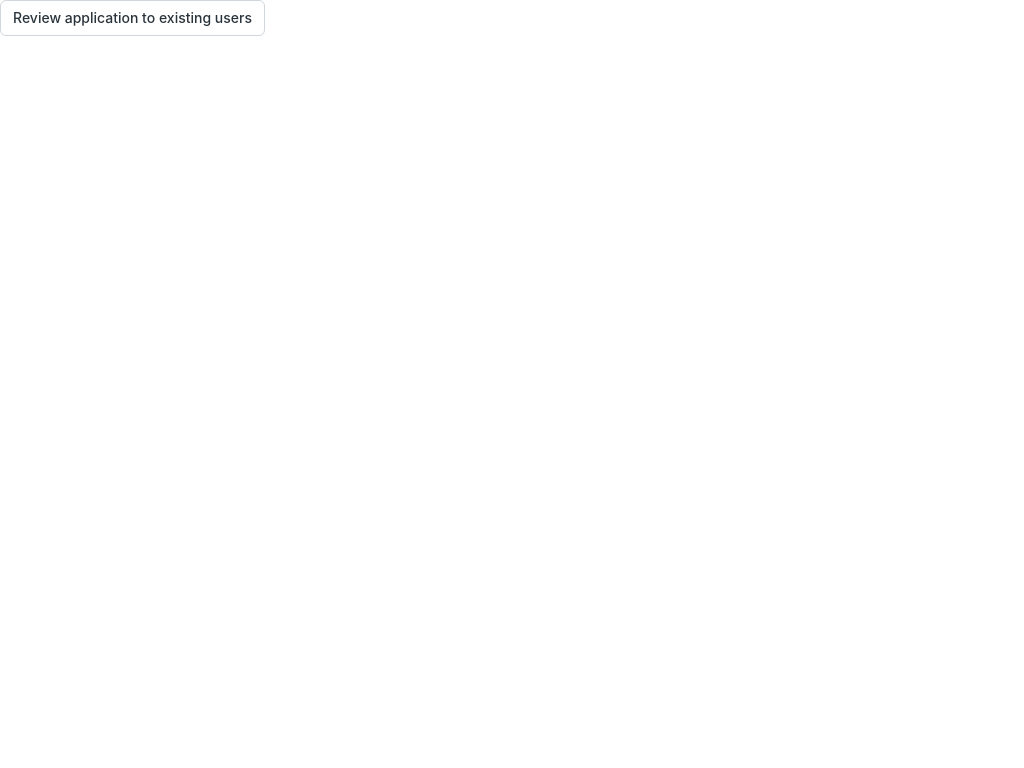
Role application review › previews role members and Cancel does not change permissions
The image size is (1024, 768).
Later steps or results of the test are not shown.
Click the button "Review application to existing users" at (132, 18), box [0,0,265,36]
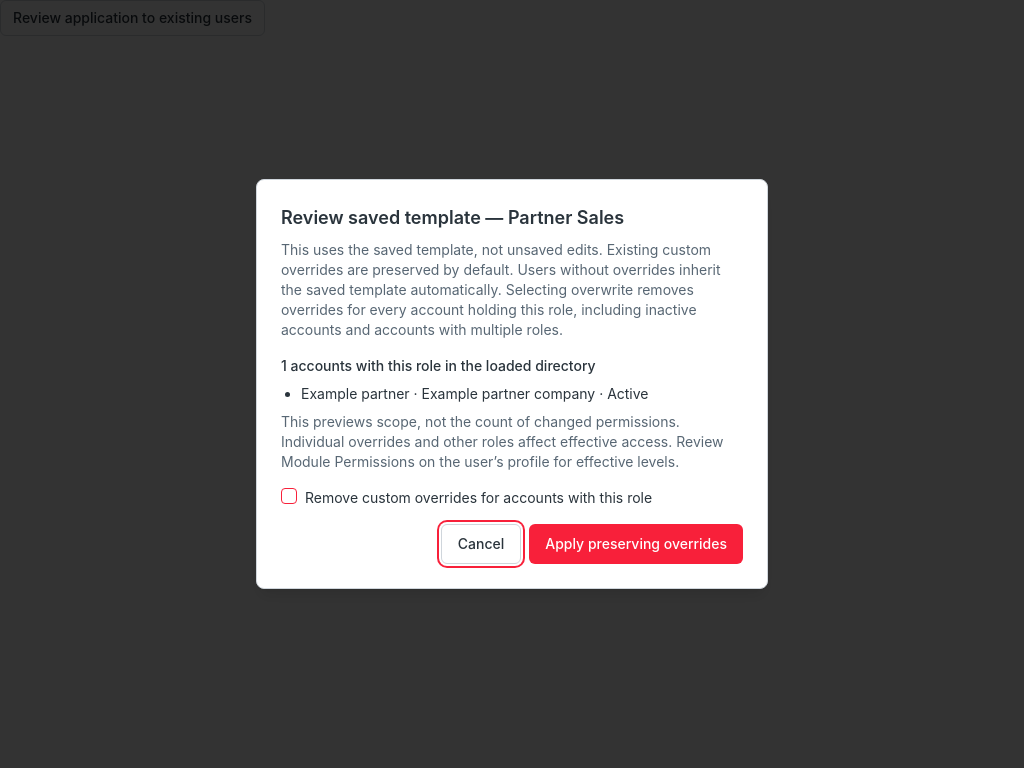
Result: the text "1 accounts with this role in the loaded directory" is shown at [281,357,596,374]
Result: the list item "Example partner · Example partner company · Active" is shown at [301,385,648,402]
